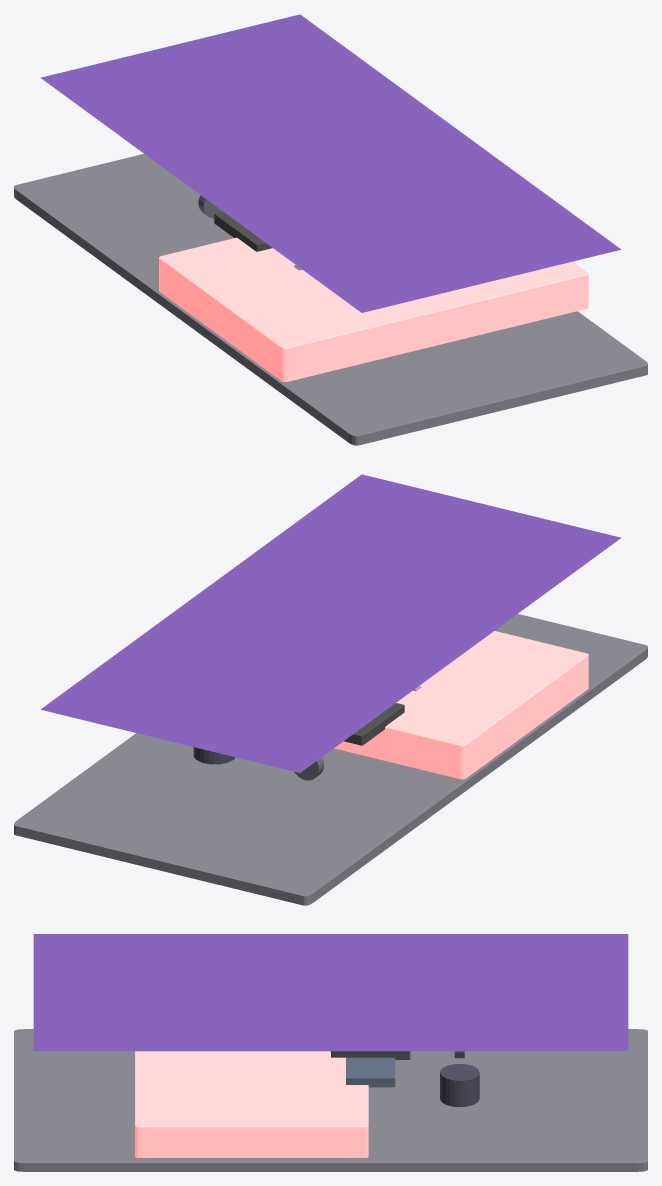
File: tech_smartphone_anatomie_hd_v1.glb
3 views of the same model, one above another, from view 1: azimuth 30°, elevation 25°; view 2: azimuth 150°, elevation 25°; view 3: azimuth 270°, elevation 25° (orthographic). The views are drawn at different scales.
Parts seen in each view (by area): view 1: screen__fault_defaillant, chassis, battery__fault_defaillant, cpu; view 2: screen__fault_defaillant, chassis, battery__fault_defaillant, cpu; view 3: screen__fault_defaillant, chassis, battery__fault_defaillant, camera, pmic, cpu.
Part boxes in pixels (box(x1,y1,x2,y2)): screen__fault_defaillant: box(40, 14, 620, 312); chassis: box(14, 154, 647, 445); battery__fault_defaillant: box(159, 237, 588, 381); cpu: box(214, 211, 272, 251); screen__fault_defaillant: box(41, 474, 621, 772); chassis: box(14, 614, 647, 905); battery__fault_defaillant: box(334, 631, 588, 779); cpu: box(344, 703, 404, 745); screen__fault_defaillant: box(33, 934, 628, 1051); chassis: box(14, 1029, 647, 1171); battery__fault_defaillant: box(135, 1051, 368, 1157); camera: box(440, 1064, 479, 1107); pmic: box(346, 1057, 395, 1087); cpu: box(331, 1051, 410, 1059).
Bounding box in the file's own units: 3.3 × 1.28 × 6.4.
